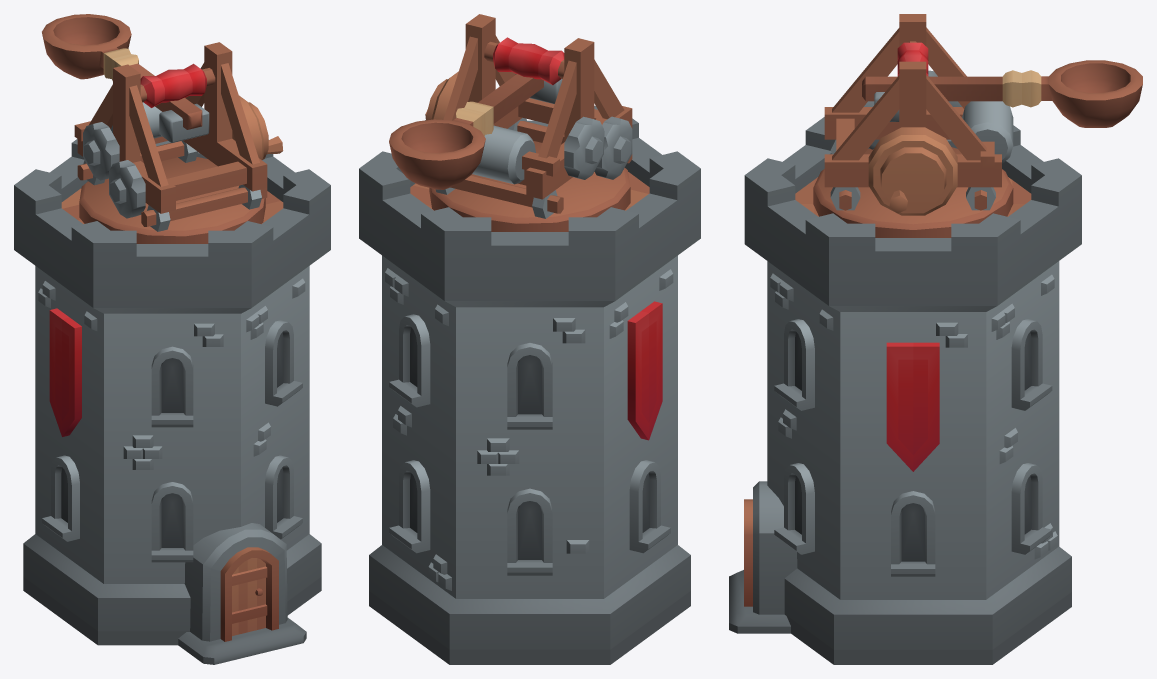
File: tower_catapult.glb
3 views of the same model, side by side, from view 1: azimuth 30°, elevation 25°; view 2: azimuth 150°, elevation 25°; view 3: azimuth 270°, elevation 25° (orthographic). The views are drawn at different scales.
Visible parts, largest first — view 1: tower_catapult; view 2: tower_catapult; view 3: tower_catapult.
Part boxes in pixels (<box>): tower_catapult: <box>14,14,330,664</box>; tower_catapult: <box>359,14,700,664</box>; tower_catapult: <box>729,14,1142,664</box>.
Size of the model in its own units: 0.4649 by 0.982 by 0.6517.
Materials: 1 (1 with a texture image).
